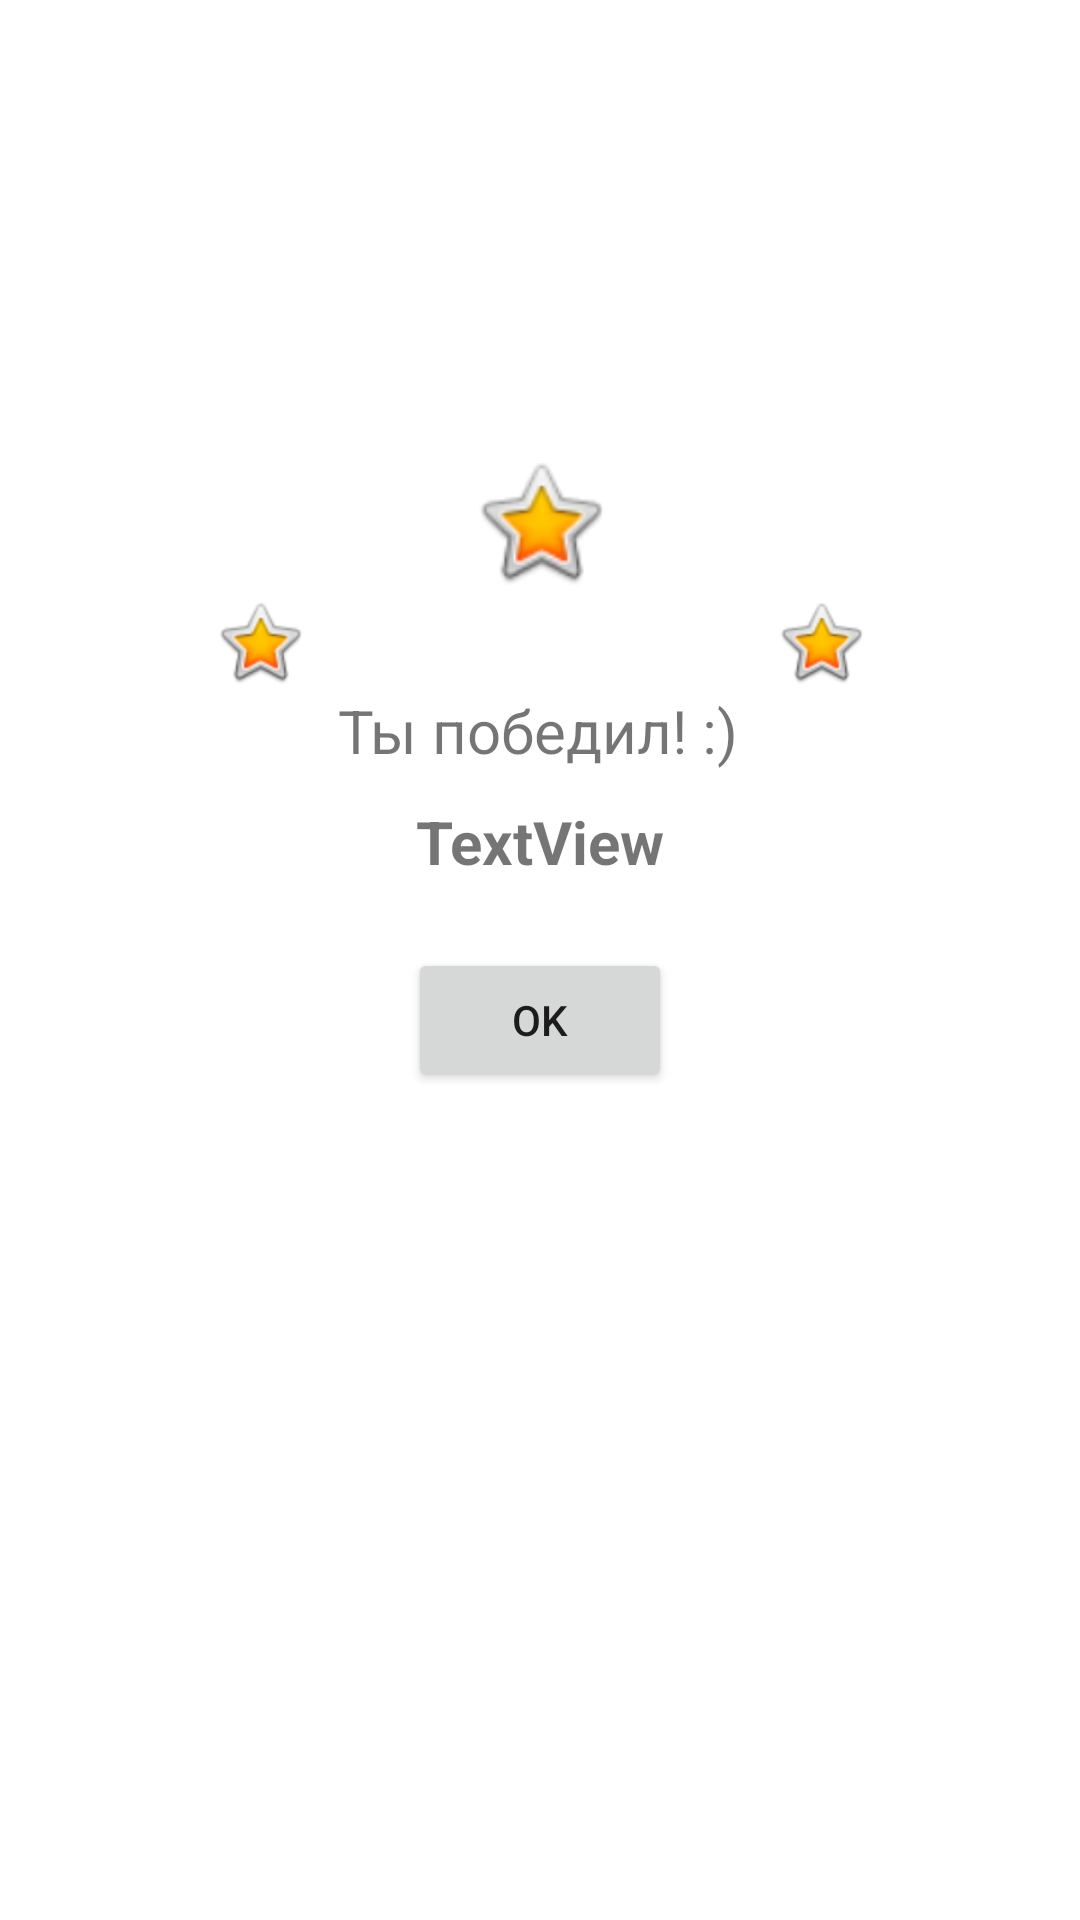

Screen size 1080×1920. Icon name, then its center in pixels as (x,y):
star on: (541,523), (261,643), (822,643)
